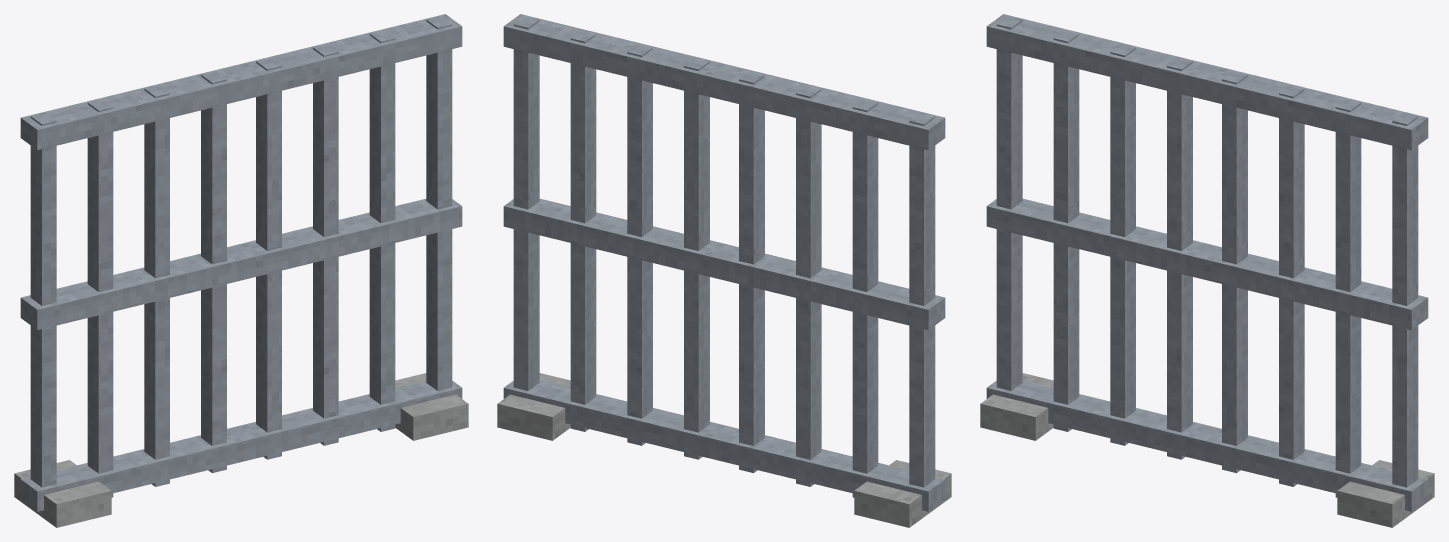
Rendered from level_blockout_dam_spillway_guard_screen.glb.
3 views of the same model, side by side, from view 1: azimuth 30°, elevation 25°; view 2: azimuth 150°, elevation 25°; view 3: azimuth 330°, elevation 25° (orthographic).
Visible parts, largest first — view 1: level_blockout_dam_spillway_guard_screen; view 2: level_blockout_dam_spillway_guard_screen; view 3: level_blockout_dam_spillway_guard_screen.
Boxes of the visible parts, x1=… form: level_blockout_dam_spillway_guard_screen: x1=14, y1=14, x2=468, y2=527; level_blockout_dam_spillway_guard_screen: x1=497, y1=14, x2=951, y2=527; level_blockout_dam_spillway_guard_screen: x1=980, y1=14, x2=1434, y2=527.
Size of the model in its own units: 2.62 by 2.31 by 0.45.
Materials: 2 (2 with a texture image).
